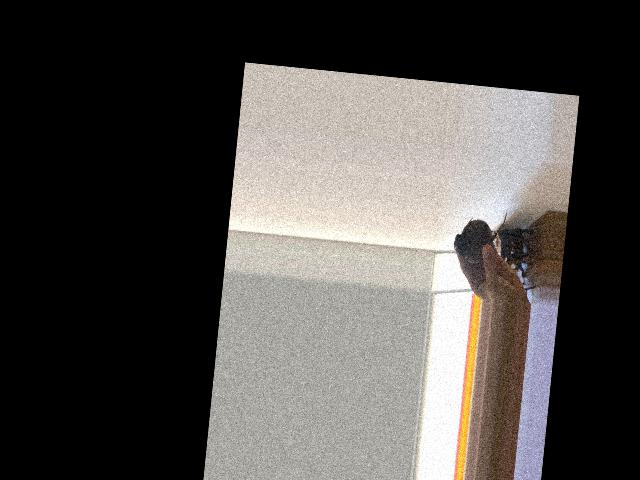beet: (452, 204, 507, 266)
